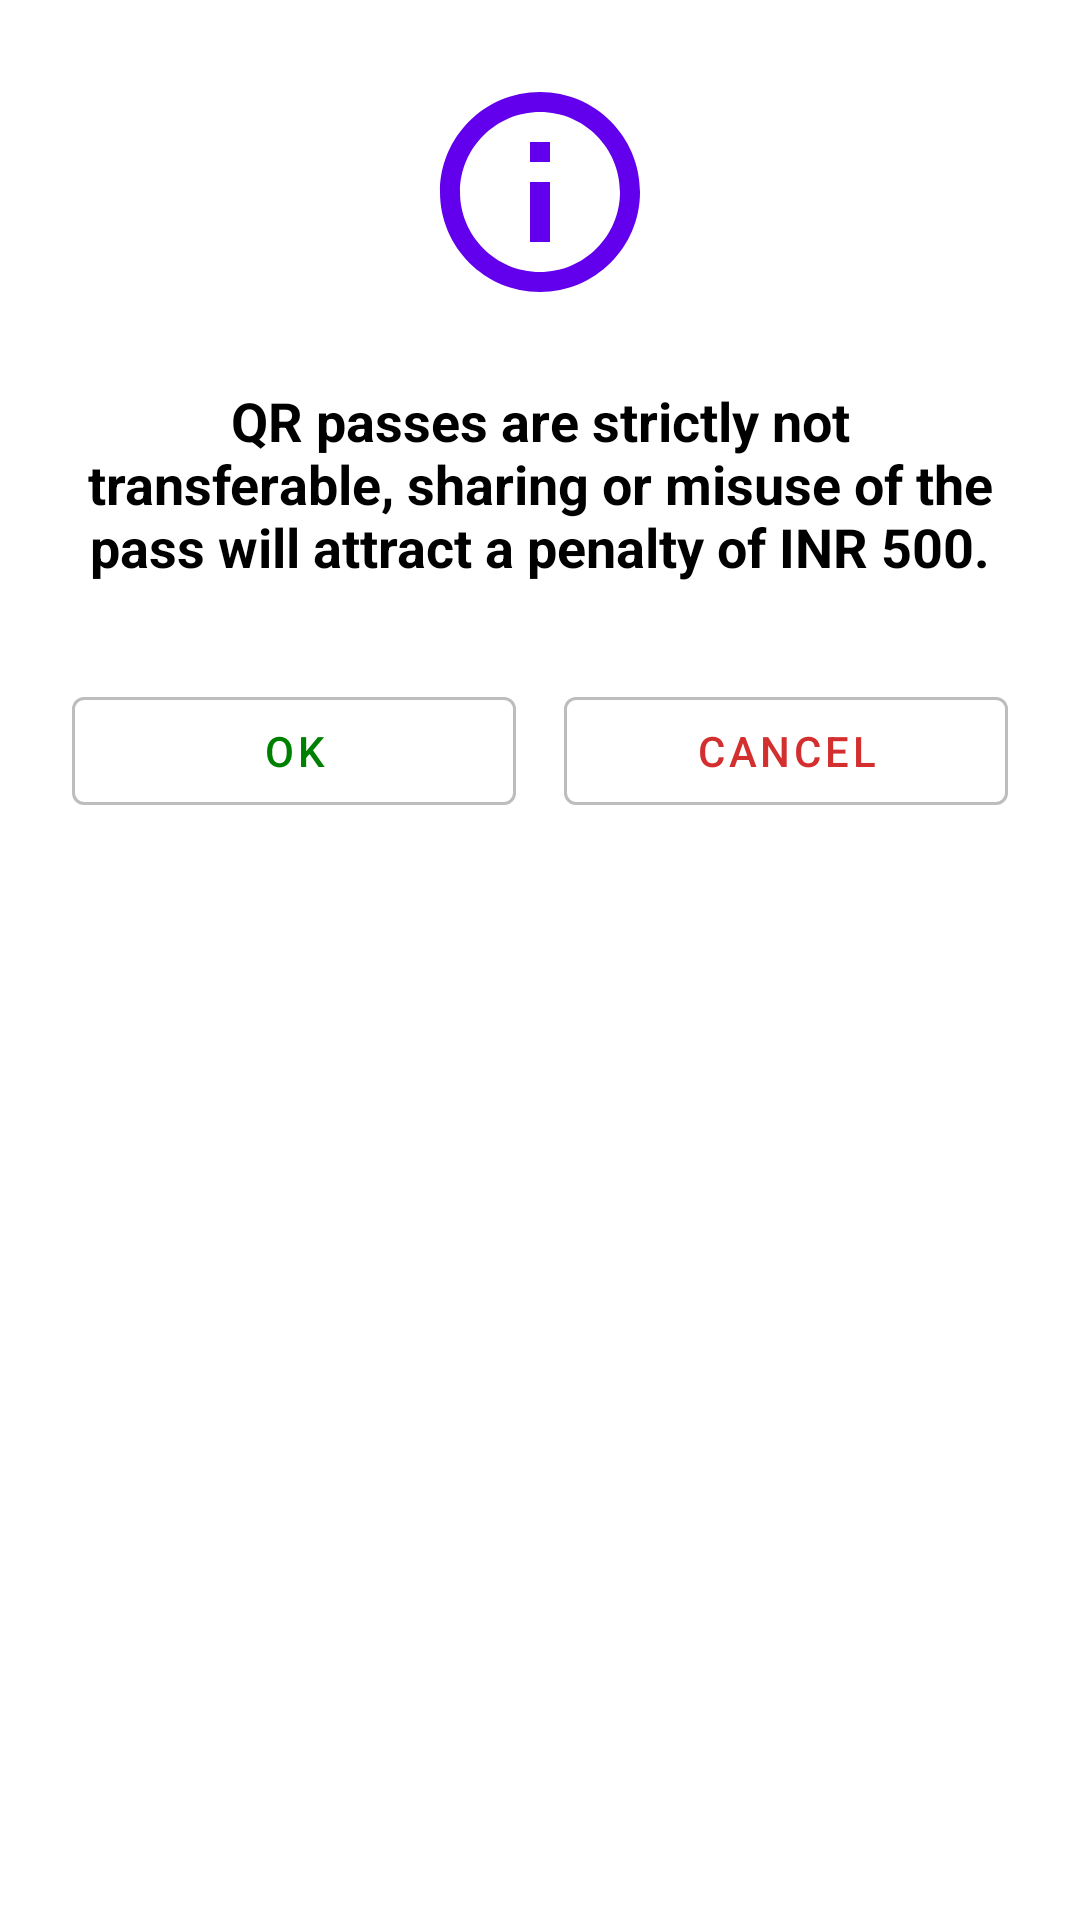

Icon bounding boxes for this 1080px x 1920px phone screenshot, format (x1, y1, x2, y2):
info: (439, 92, 640, 292)
